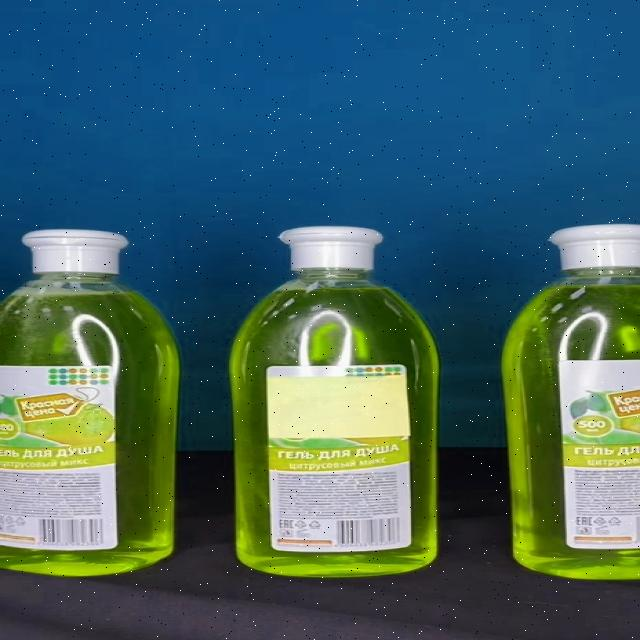Bottle: (230, 227, 440, 578), (0, 229, 178, 576)
Cap: (24, 229, 130, 275), (278, 226, 384, 270)
